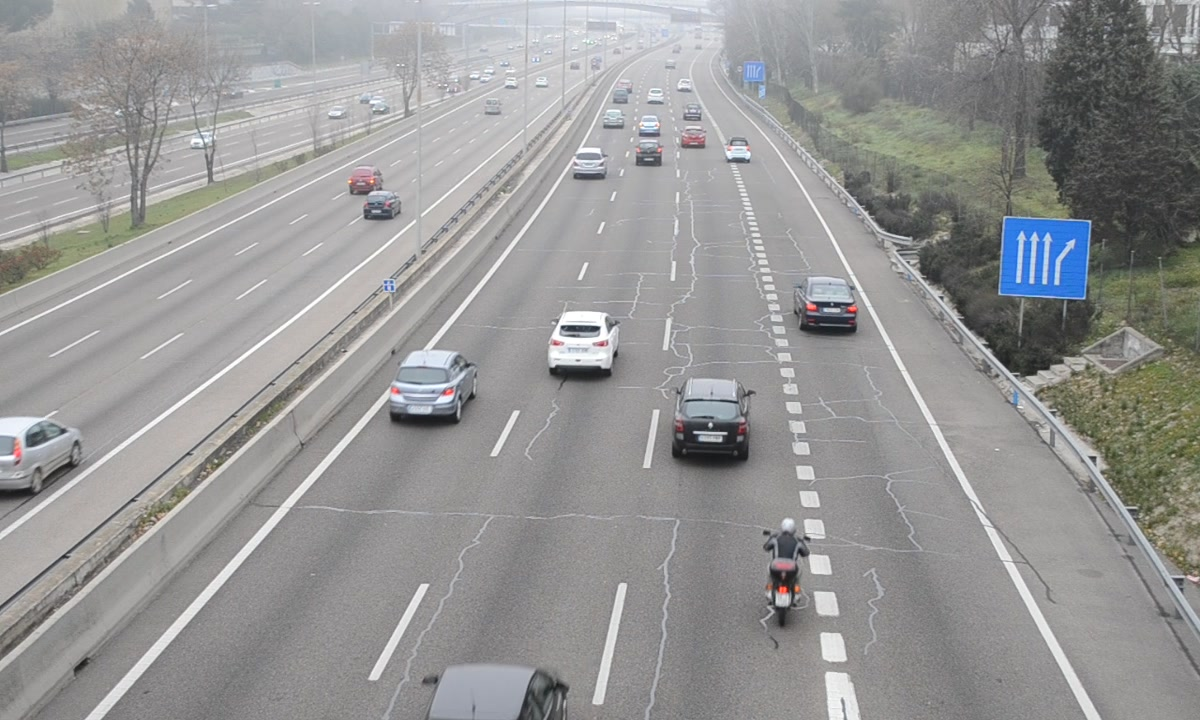car: (425, 662, 570, 718), (387, 352, 476, 421), (672, 379, 748, 459), (547, 311, 619, 374), (796, 275, 859, 330), (571, 146, 609, 180), (724, 135, 752, 163), (635, 138, 662, 166), (681, 124, 708, 149), (637, 114, 662, 138)
motorcycle: (758, 517, 814, 632)
